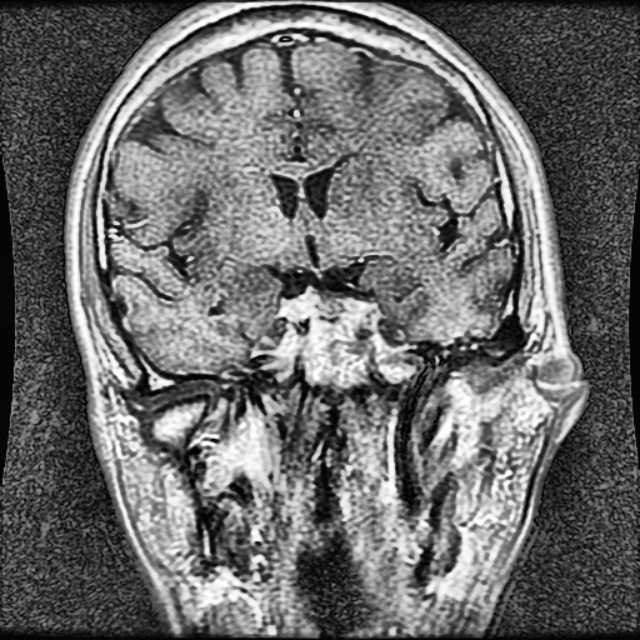Pituitary: (282, 287, 410, 385)
